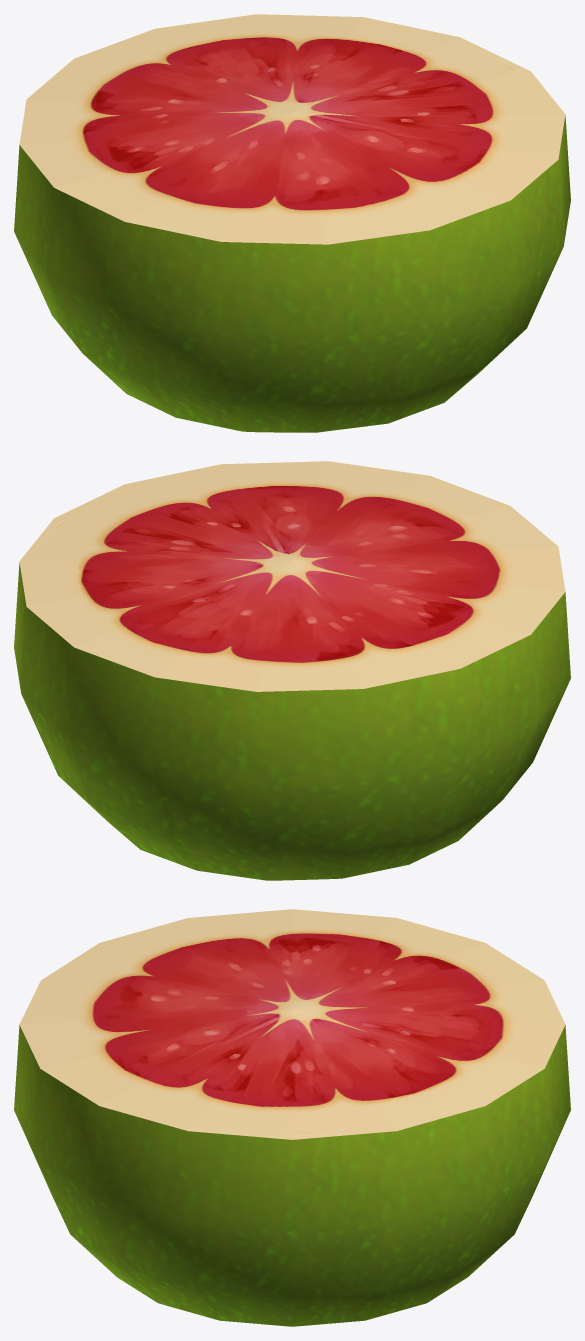
The model's file is Pomelo_Green_Half.fbx.
The picture shows the model from 3 angles, top to bottom: view 1: azimuth 30°, elevation 25°; view 2: azimuth 150°, elevation 25°; view 3: azimuth 270°, elevation 25°; orthographic projection.
Visible parts, largest first — view 1: Pomelo_Green_Half; view 2: Pomelo_Green_Half; view 3: Pomelo_Green_Half.
Boxes of the visible parts, bbox=[...] form: Pomelo_Green_Half: bbox=[14, 14, 570, 432]; Pomelo_Green_Half: bbox=[14, 461, 570, 880]; Pomelo_Green_Half: bbox=[14, 909, 570, 1326].
Bounding box in the file's own units: 38.85 × 21.72 × 38.85.
1 material, 1 textured.
